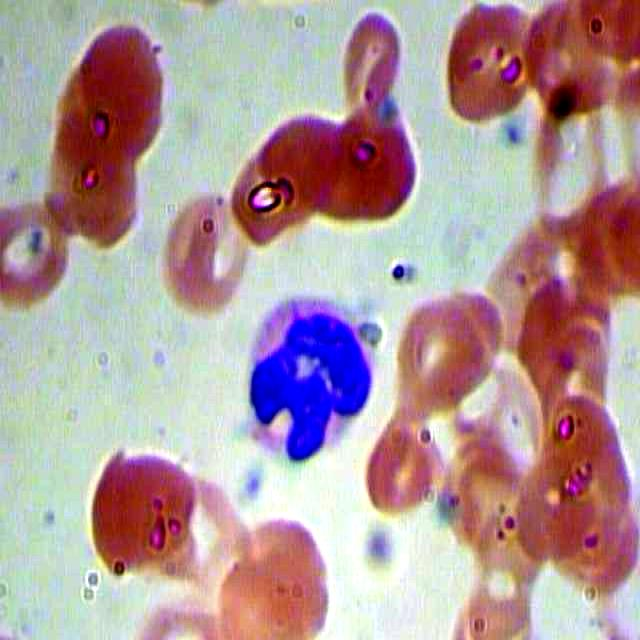Platelets: (362, 518, 405, 570), (233, 454, 276, 506)
RBC: (224, 101, 352, 255), (431, 1, 554, 136), (78, 445, 197, 580), (215, 506, 334, 640), (297, 104, 422, 231), (33, 119, 152, 252), (53, 20, 172, 153), (525, 93, 618, 235), (542, 385, 630, 532), (158, 187, 258, 312), (356, 404, 447, 524), (393, 286, 484, 406), (1, 182, 72, 322), (448, 541, 545, 640), (336, 1, 406, 124), (579, 174, 640, 314)
WBC: (236, 281, 379, 471)
